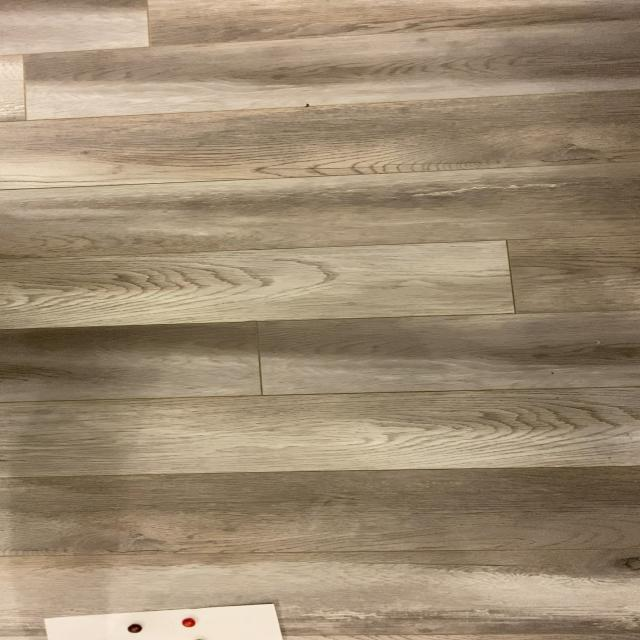smartie: (126, 625, 140, 634), (181, 619, 194, 628)
